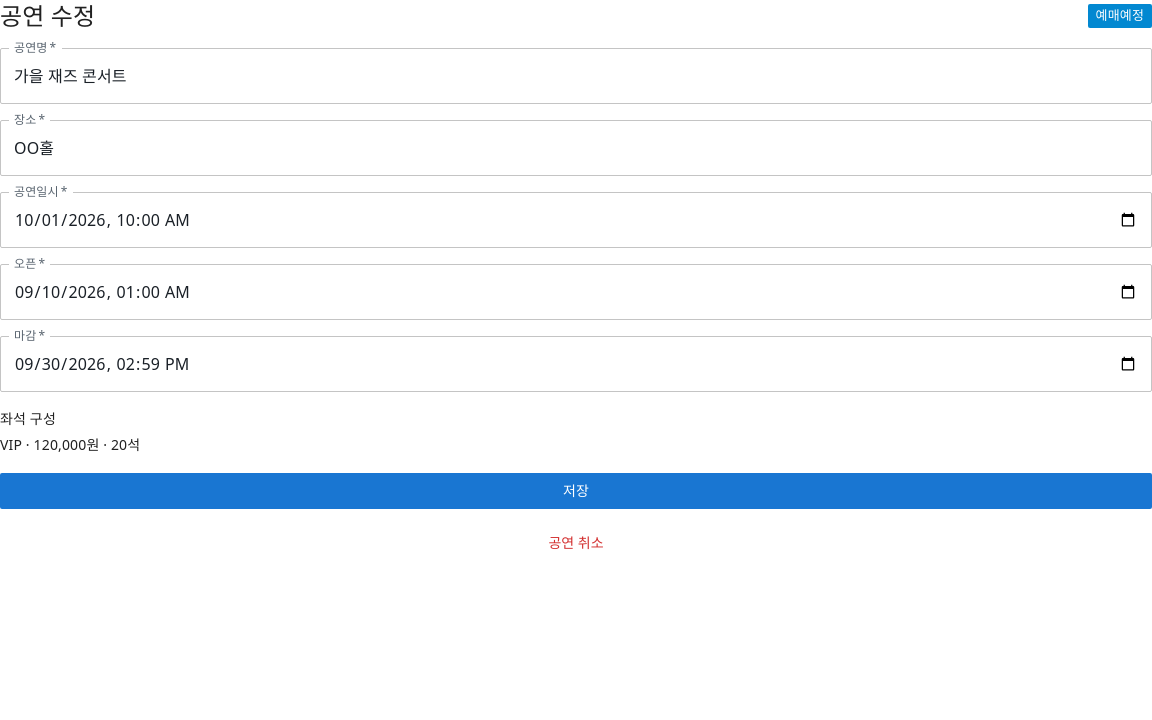
Test: PerformanceEditPage › SC-08 (happy) 취소 버튼을 클릭하면 확인 다이얼로그가 뜬다
This screenshot has width=1152, height=720.
Expected: the field showing "가을 재즈 콘서트" is shown, [0, 48, 1151, 104]
Click the button "공연 취소". click: (576, 544)
box: [0, 525, 1151, 562]
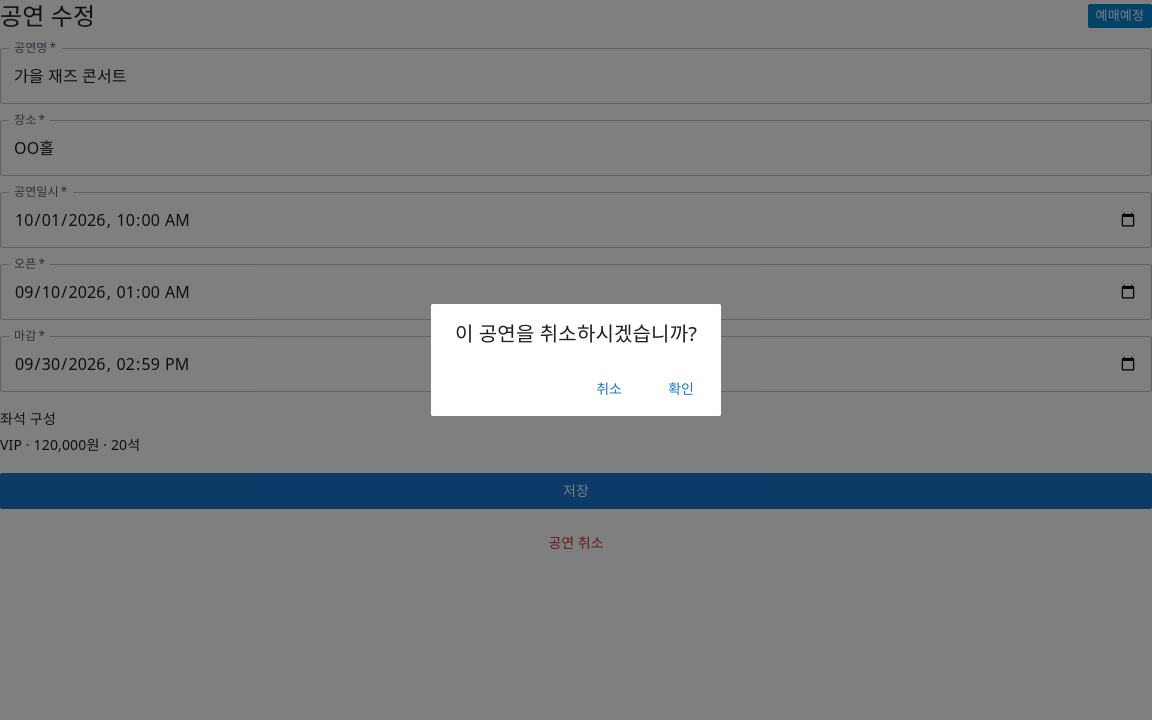
Now the heading "이 공연을 취소하시겠습니까?" is shown, box [455, 320, 697, 347]
